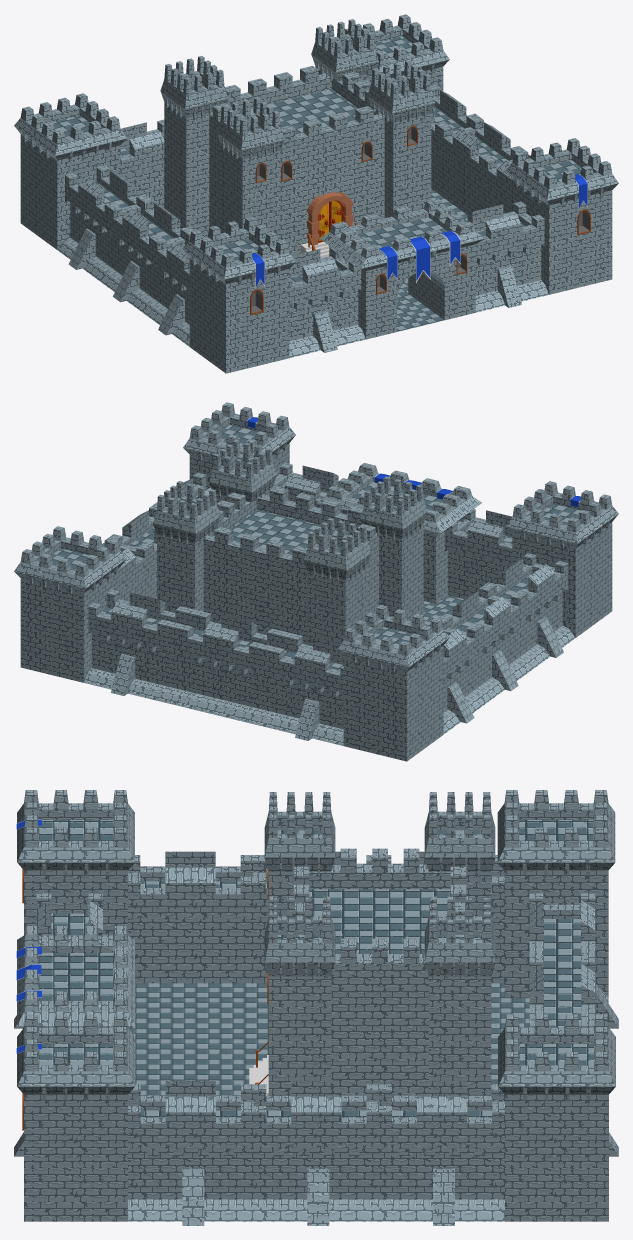
File: Castelo2.fbx
3 views of the same model, one above another, from view 1: azimuth 30°, elevation 25°; view 2: azimuth 150°, elevation 25°; view 3: azimuth 270°, elevation 25° (orthographic). The views are drawn at different scales.
Parts seen in each view (by area): view 1: Cube.029; view 2: Cube.029; view 3: Cube.029.
Boxes of the visible parts, x1,y1,x2,y2 form: Cube.029: (14, 14, 618, 373); Cube.029: (14, 402, 618, 761); Cube.029: (14, 790, 618, 1225).
Bounding box in the file's own units: 2693 × 1079 × 2489.
Materials: 10 (4 with a texture image).
